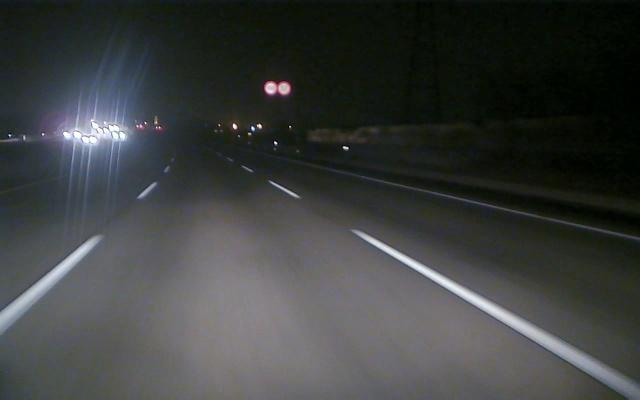lane: (276, 182, 636, 396), (2, 181, 157, 334), (337, 169, 640, 243)
